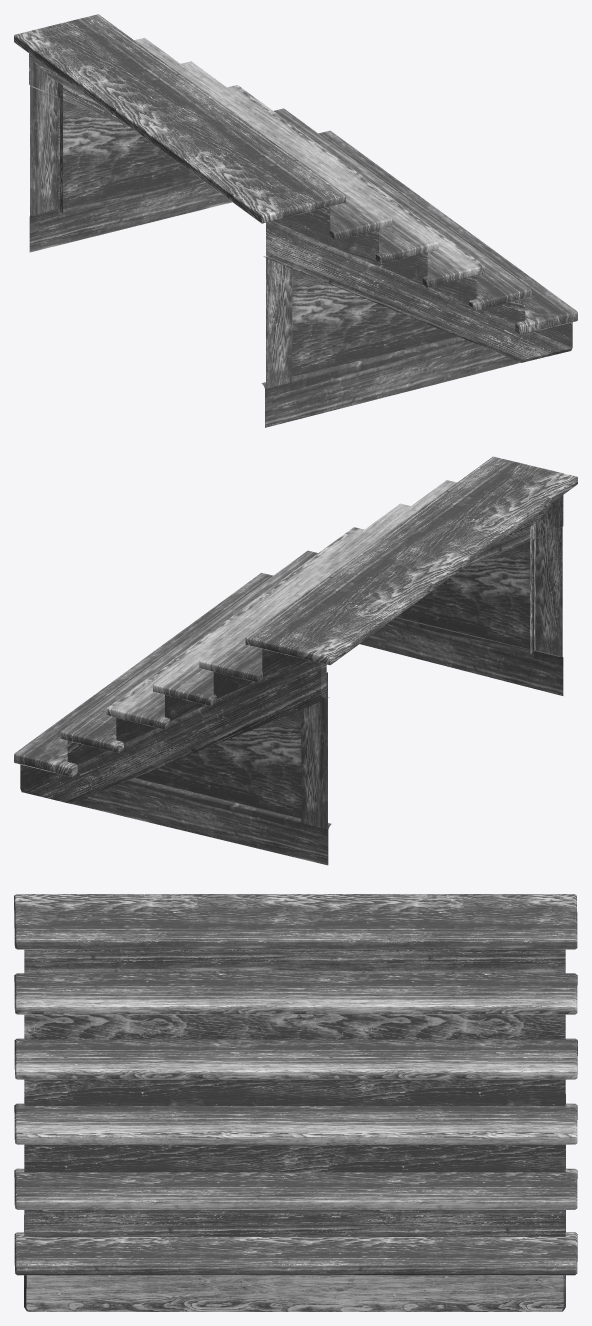
Rendered from SM_Terrace_Stairs_A3_Splines_48.fbx.
3 views of the same model, one above another, from view 1: azimuth 30°, elevation 25°; view 2: azimuth 150°, elevation 25°; view 3: azimuth 270°, elevation 25° (orthographic). The views are drawn at different scales.
Visible parts, largest first — view 1: SM_Terrace_Stairs_A3_Splines_48; view 2: SM_Terrace_Stairs_A3_Splines_48; view 3: SM_Terrace_Stairs_A3_Splines_48.
Boxes of the visible parts, left/top/right/bottom form: SM_Terrace_Stairs_A3_Splines_48: left=14, top=14, right=577, bottom=427; SM_Terrace_Stairs_A3_Splines_48: left=14, top=456, right=577, bottom=865; SM_Terrace_Stairs_A3_Splines_48: left=14, top=894, right=577, bottom=1311.
Size of the model in its own units: 132 by 180 by 86.94.
Materials: 3 (3 with a texture image).
